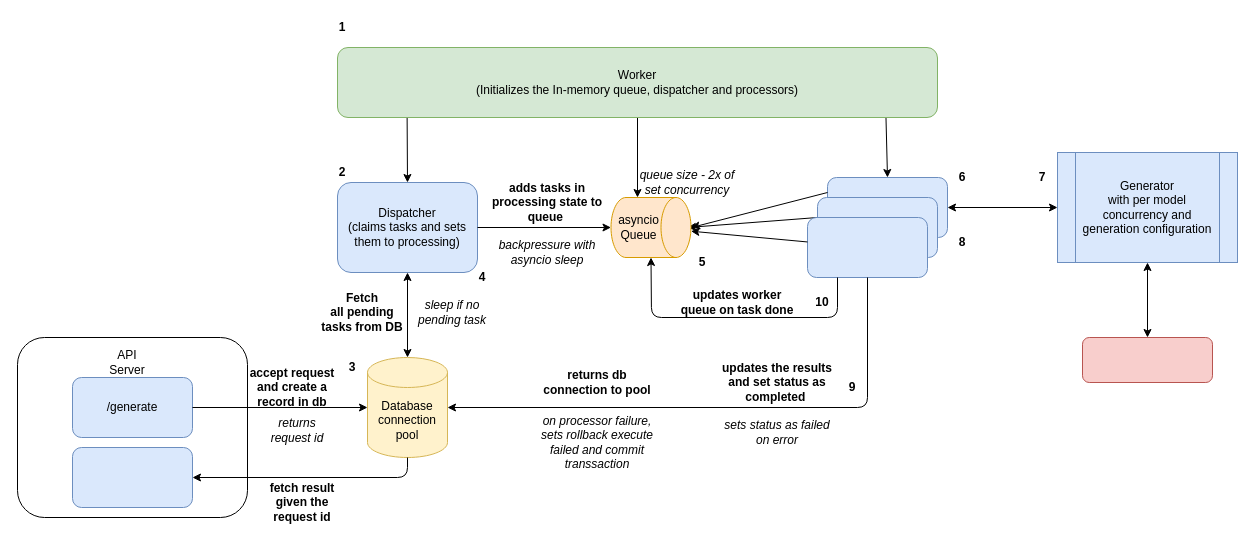
The diagram is 1255 pixels wide and 544 high, and some of its shapes have lost their labels. The centre of each missing label's shape, as x and y in pixels:
"/result/request_id" belongs at [132,477].
"Cerebras API server" belongs at [1147,359].
"Processors (updates results)" belongs at [867,247].
